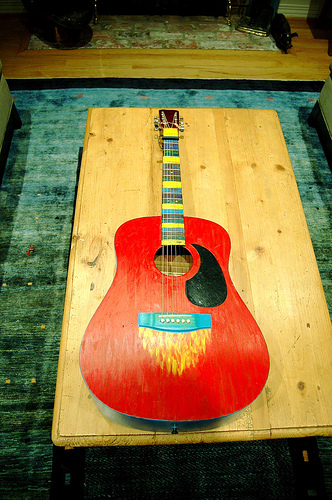guitar: (81, 111, 271, 427)
